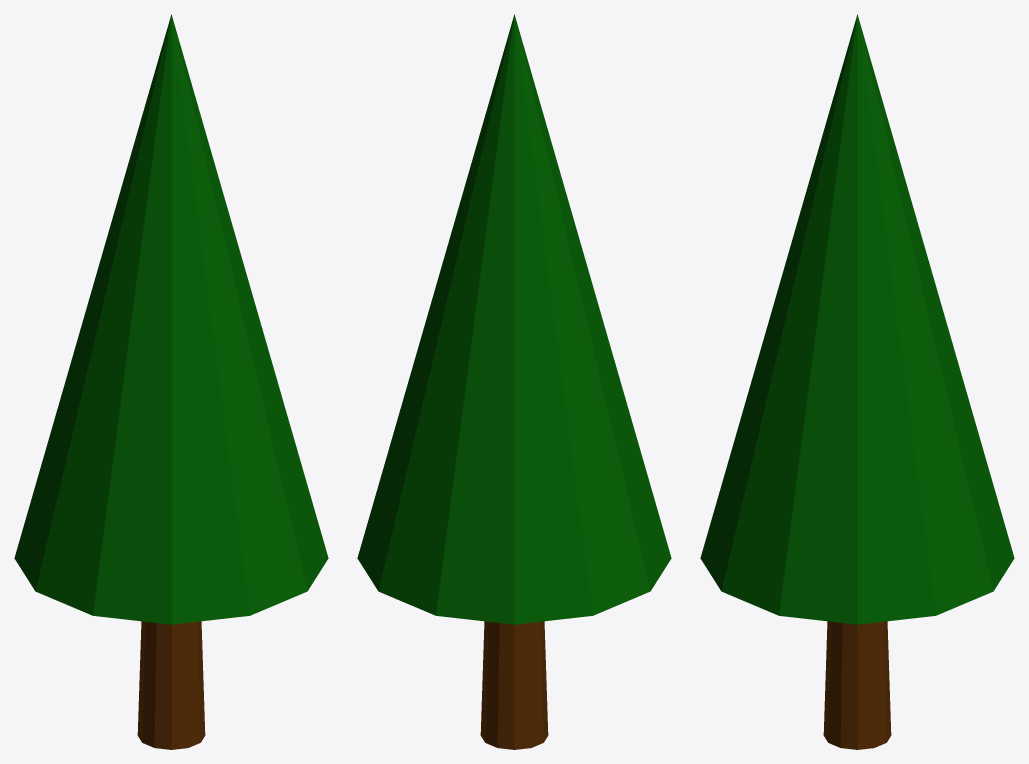
File: geo_Tree_01.fbx
The picture shows the model from 3 angles, left to right: view 1: azimuth 30°, elevation 25°; view 2: azimuth 150°, elevation 25°; view 3: azimuth 270°, elevation 25°; orthographic projection.
Parts seen in each view (by area): view 1: geo_Tree_01; view 2: geo_Tree_01; view 3: geo_Tree_01.
Boxes of the visible parts, <box> form: geo_Tree_01: <box>14,14,328,749</box>; geo_Tree_01: <box>357,14,671,749</box>; geo_Tree_01: <box>700,14,1014,749</box>.
Bounding box in the file's own units: 283 × 718 × 283.
